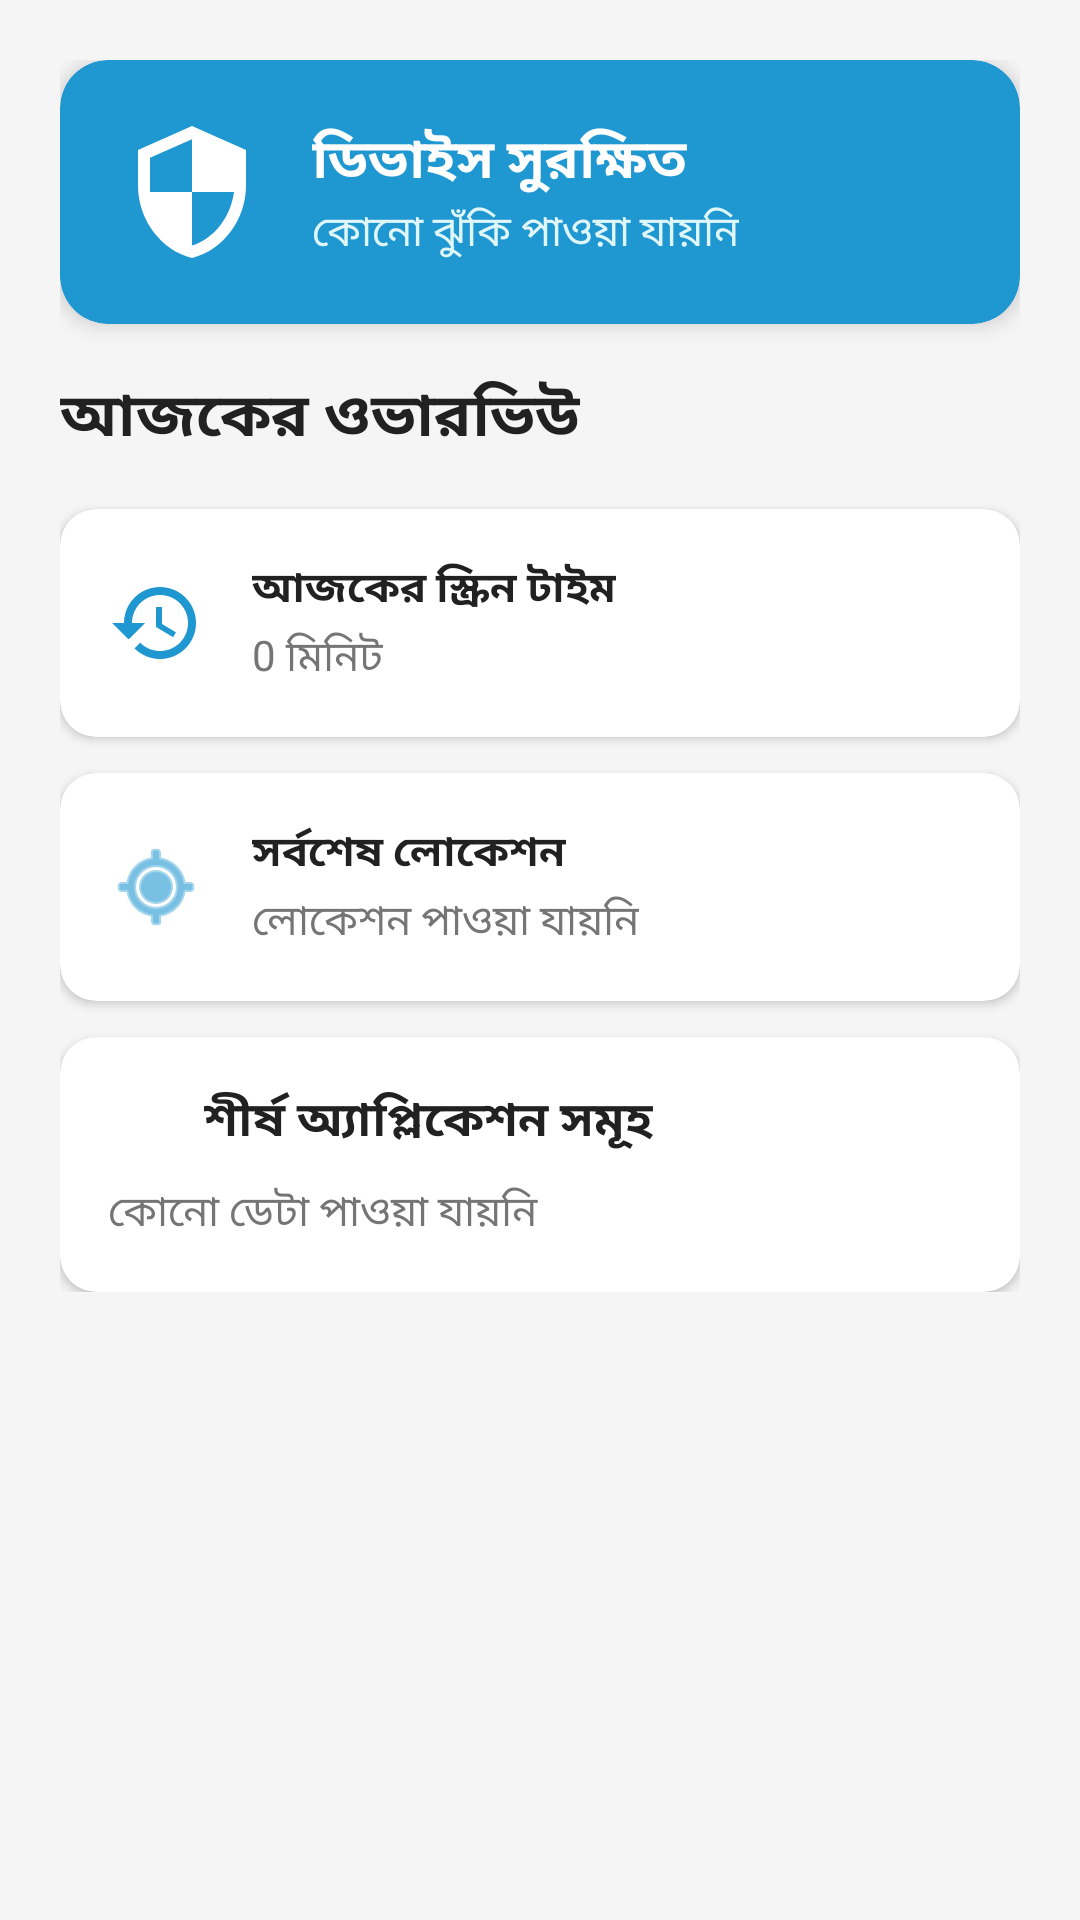

Icons on this 1080 x 1920 Android screen, each with the point to tap as (x=x, y=y):
activity: (x=154, y=623)
mylocation: (x=156, y=887)
security: (x=192, y=192)
